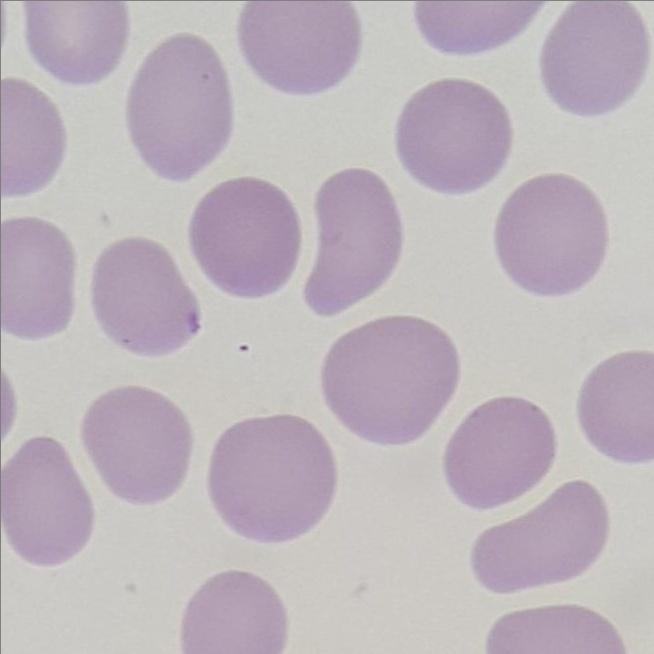Uninfected: (323, 306, 462, 454), (212, 412, 336, 549), (465, 479, 610, 595), (127, 32, 238, 181), (302, 169, 406, 316), (93, 234, 204, 357), (497, 176, 608, 299), (83, 387, 196, 503), (190, 177, 300, 296), (542, 0, 652, 116), (447, 396, 558, 510), (400, 79, 511, 191), (0, 439, 92, 566), (237, 0, 357, 97), (0, 222, 80, 340), (180, 566, 287, 654), (23, 0, 131, 85), (577, 351, 654, 466), (0, 82, 68, 202)
